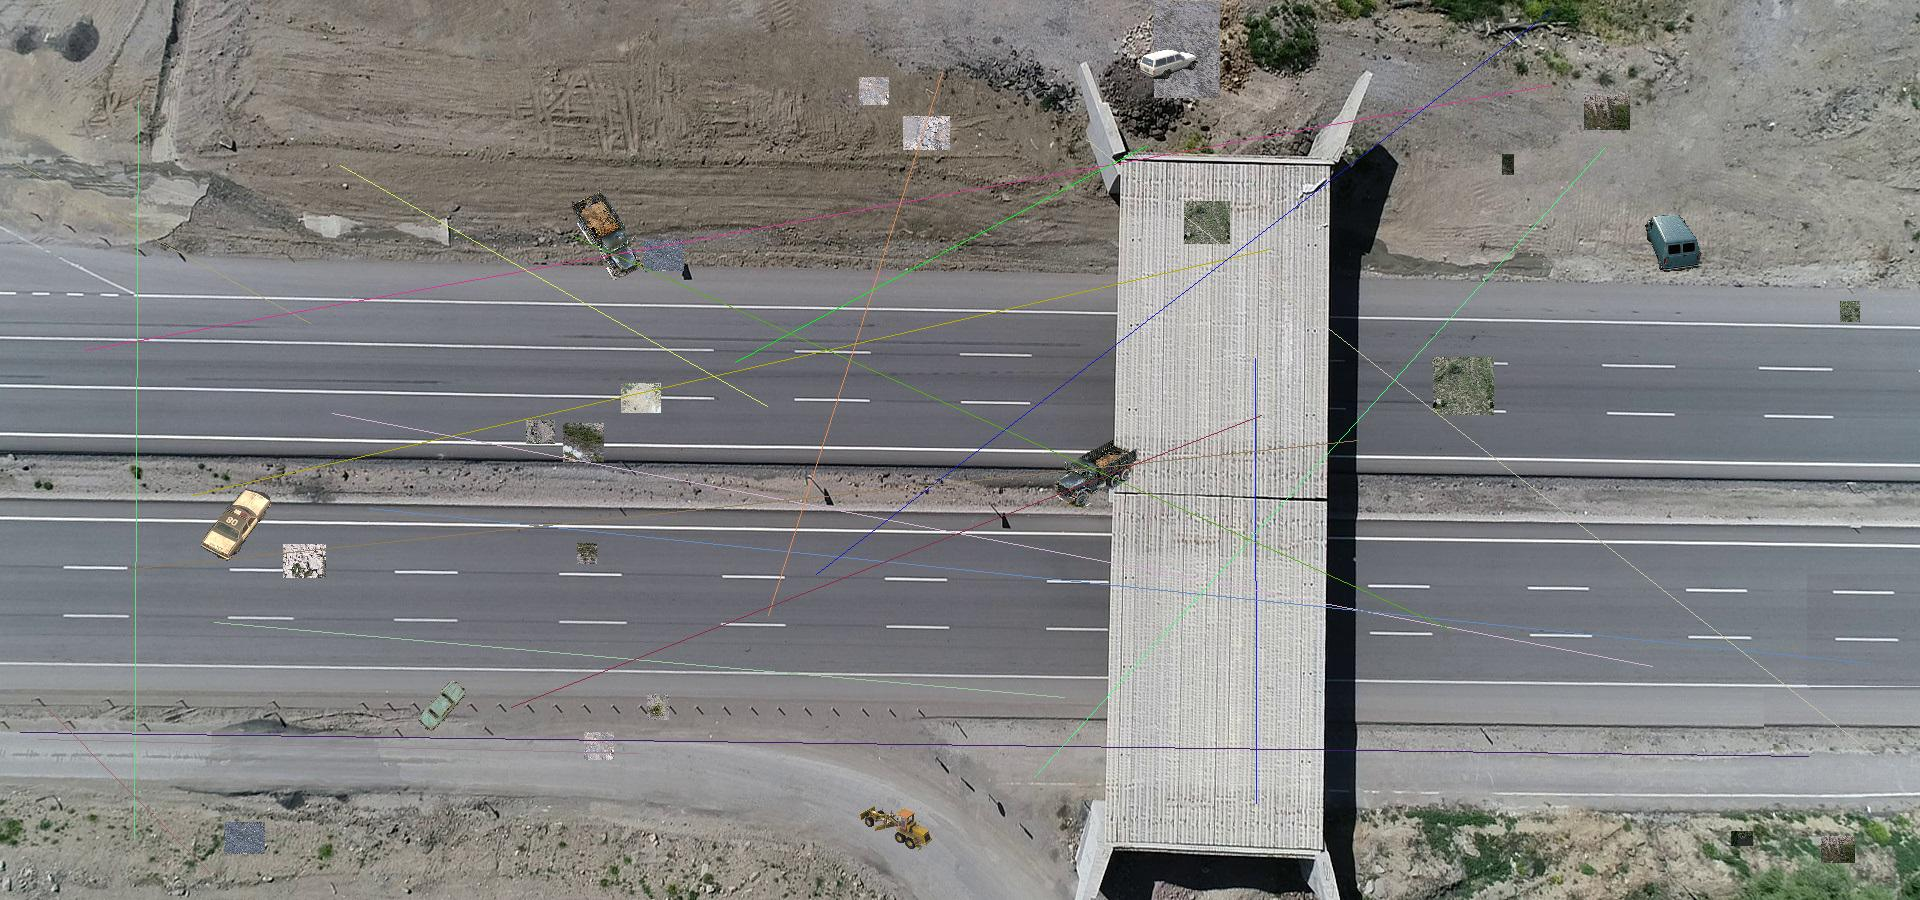arac: (571, 189, 642, 280), (1054, 438, 1138, 507), (201, 489, 271, 562), (858, 804, 936, 852), (1644, 216, 1702, 272), (418, 681, 467, 732), (1139, 49, 1199, 80)
